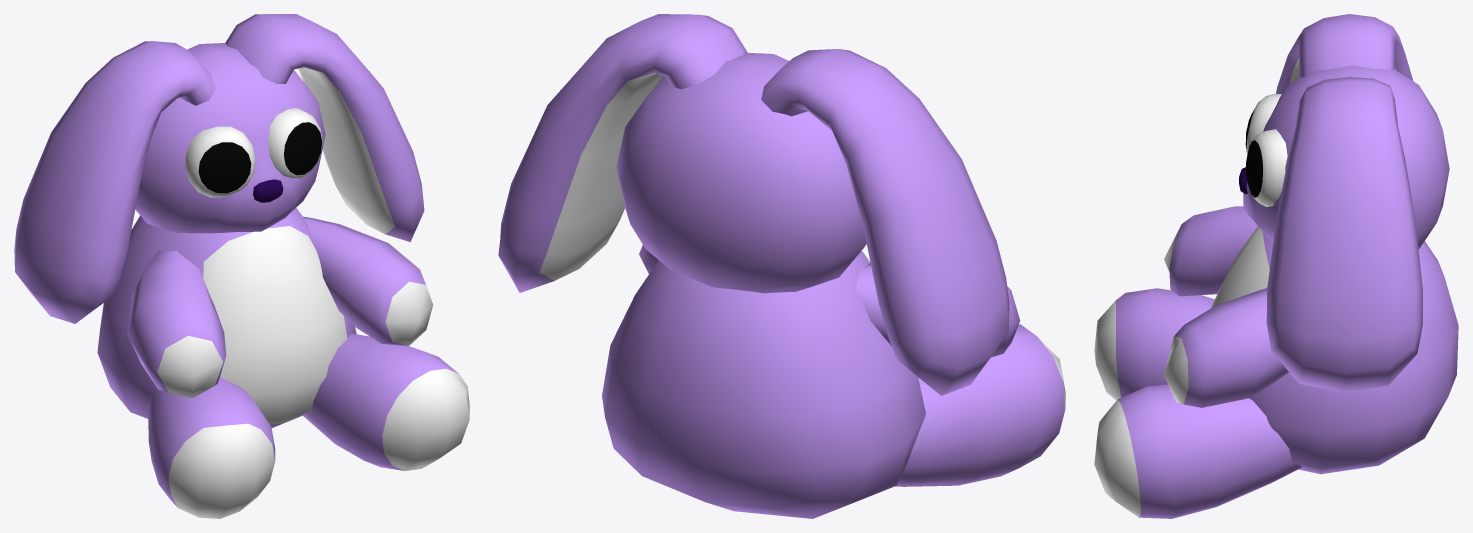
File: Prop_TeddyBear_05.fbx
The picture shows the model from 3 angles, left to right: view 1: azimuth 30°, elevation 25°; view 2: azimuth 150°, elevation 25°; view 3: azimuth 270°, elevation 25°; orthographic projection. The views are drawn at different scales.
Parts seen in each view (by area): view 1: Prop_TeddyBear_05; view 2: Prop_TeddyBear_05; view 3: Prop_TeddyBear_05.
Boxes of the visible parts, bbox=[...] form: Prop_TeddyBear_05: bbox=[14, 14, 469, 518]; Prop_TeddyBear_05: bbox=[498, 14, 1065, 518]; Prop_TeddyBear_05: bbox=[1094, 14, 1458, 518].
Bounding box in the file's own units: 85 × 83.83 × 67.13.
